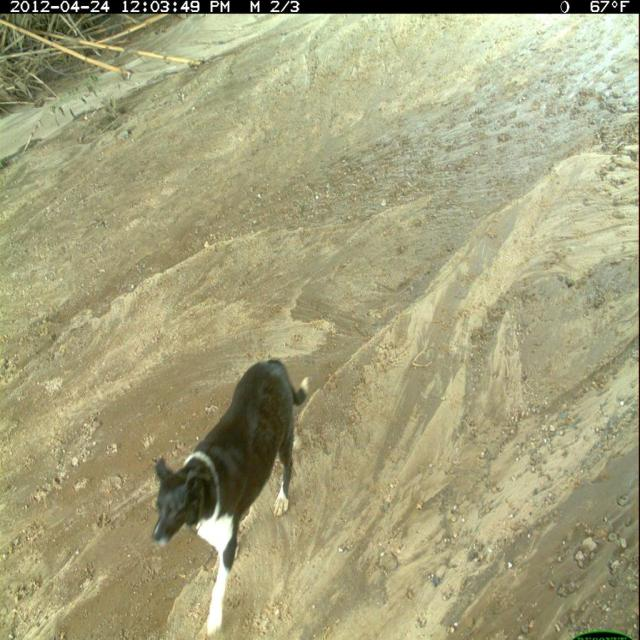dog: (144, 354, 313, 640)
